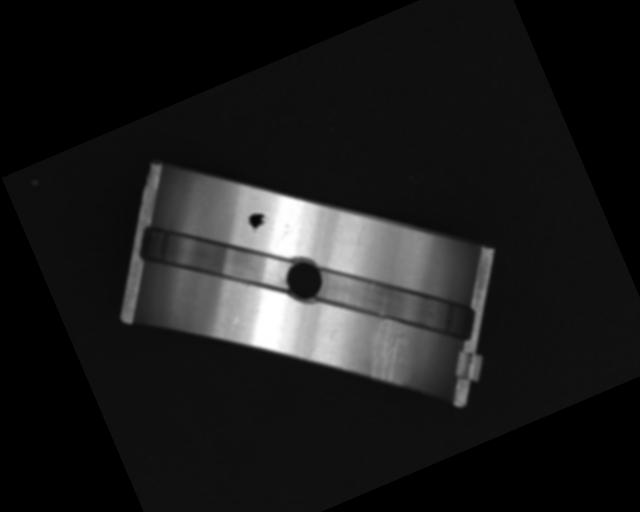blot: (244, 207, 274, 236)
gap: (307, 221, 478, 383), (132, 182, 294, 331)
hole: (279, 254, 328, 306)
nick: (216, 282, 262, 331), (343, 223, 374, 258)
scratch: (353, 313, 424, 392)
